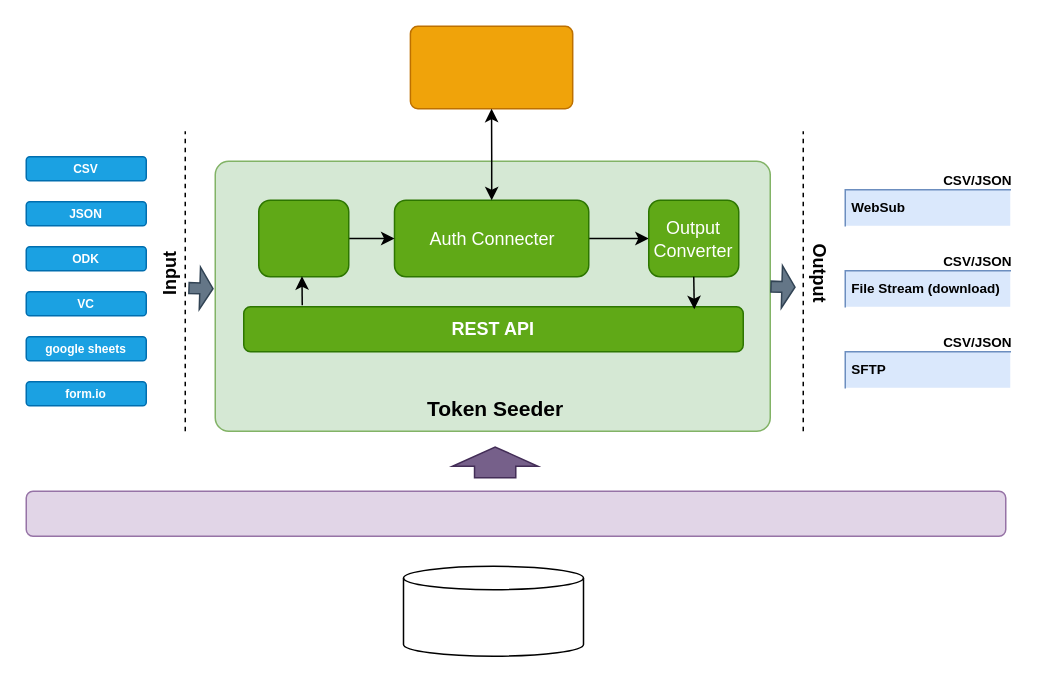
This 1038x683 diagram has some shape labels left out. The shapes that lost their labels are listed below. From the top down, each one's centre as x and y in pixels, then its label:
At (x=491, y=67): "MOSIP Auth".
At (x=303, y=238): "Input Converter".
At (x=515, y=513): "Beneficiary System".
At (x=493, y=610): "Beneficiary Database".
